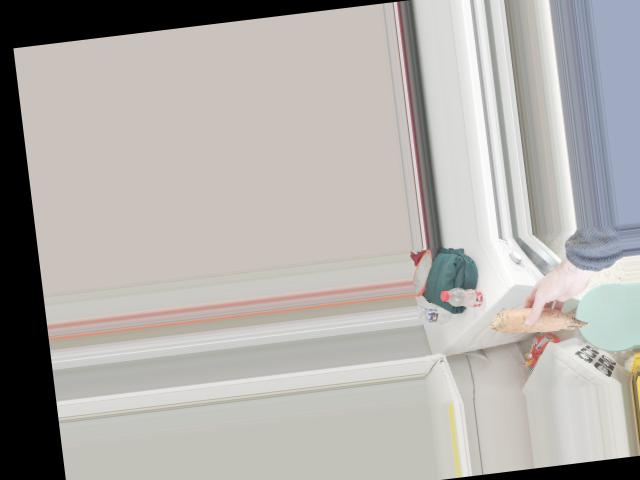sweet_potato: (485, 303, 589, 336)
